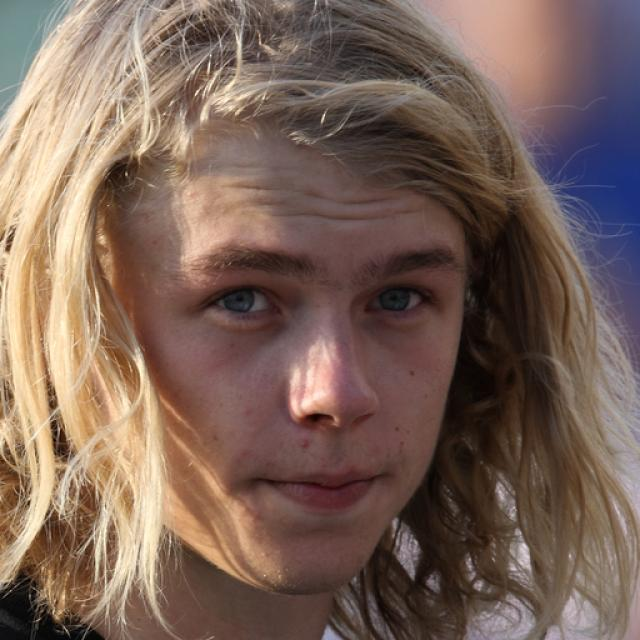Acne: (281, 433, 314, 454)
Wrinkle: (227, 176, 417, 210), (283, 202, 419, 227)
